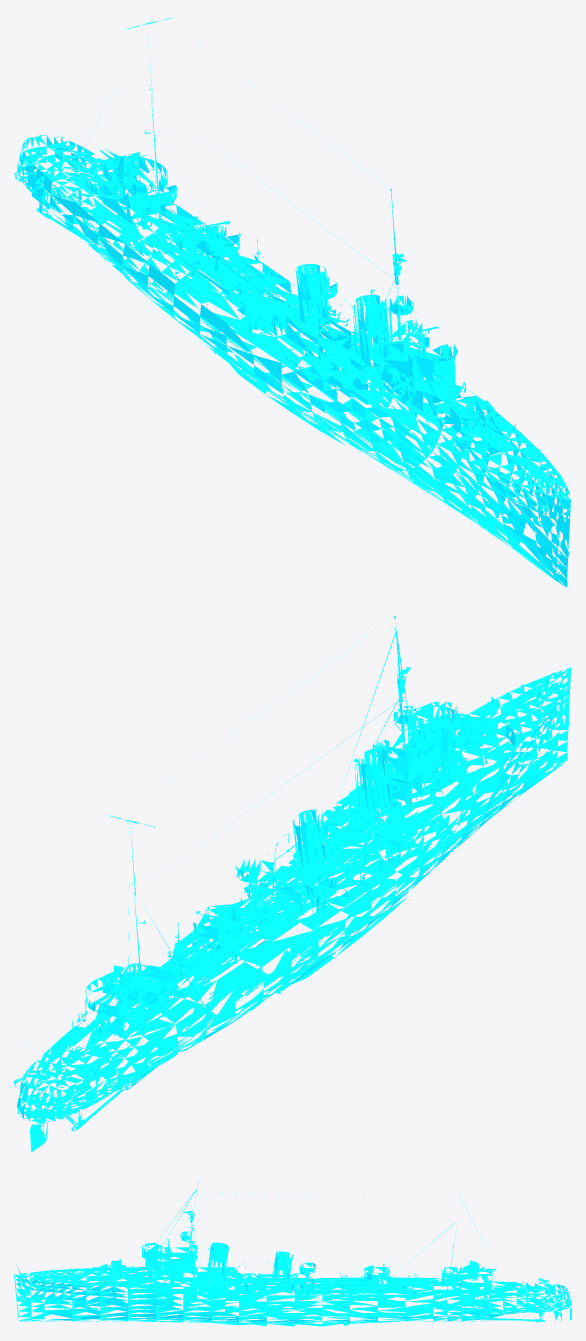
The model's file is PISD104.glb.
3 renders of one model, top to bottom at view 1: azimuth 30°, elevation 25°; view 2: azimuth 150°, elevation 25°; view 3: azimuth 270°, elevation 25°, orthographic. The views are drawn at different scales.
Visible parts, largest first — view 1: hull_mid, main_battery, torpedo; view 2: hull_mid, main_battery, torpedo; view 3: hull_mid, torpedo, main_battery.
Boxes of the visible parts, bbox=[...] form: hull_mid: bbox=[14, 17, 570, 587]; main_battery: bbox=[100, 149, 499, 437]; torpedo: bbox=[152, 208, 287, 298]; hull_mid: bbox=[14, 616, 570, 1151]; main_battery: bbox=[100, 709, 498, 1005]; torpedo: bbox=[150, 890, 287, 979]; hull_mid: bbox=[14, 1181, 571, 1326]; torpedo: bbox=[316, 1273, 438, 1287]; main_battery: bbox=[92, 1259, 496, 1280].
Bounding box in the file's own units: 0.6289 × 1.73 × 6.24.
